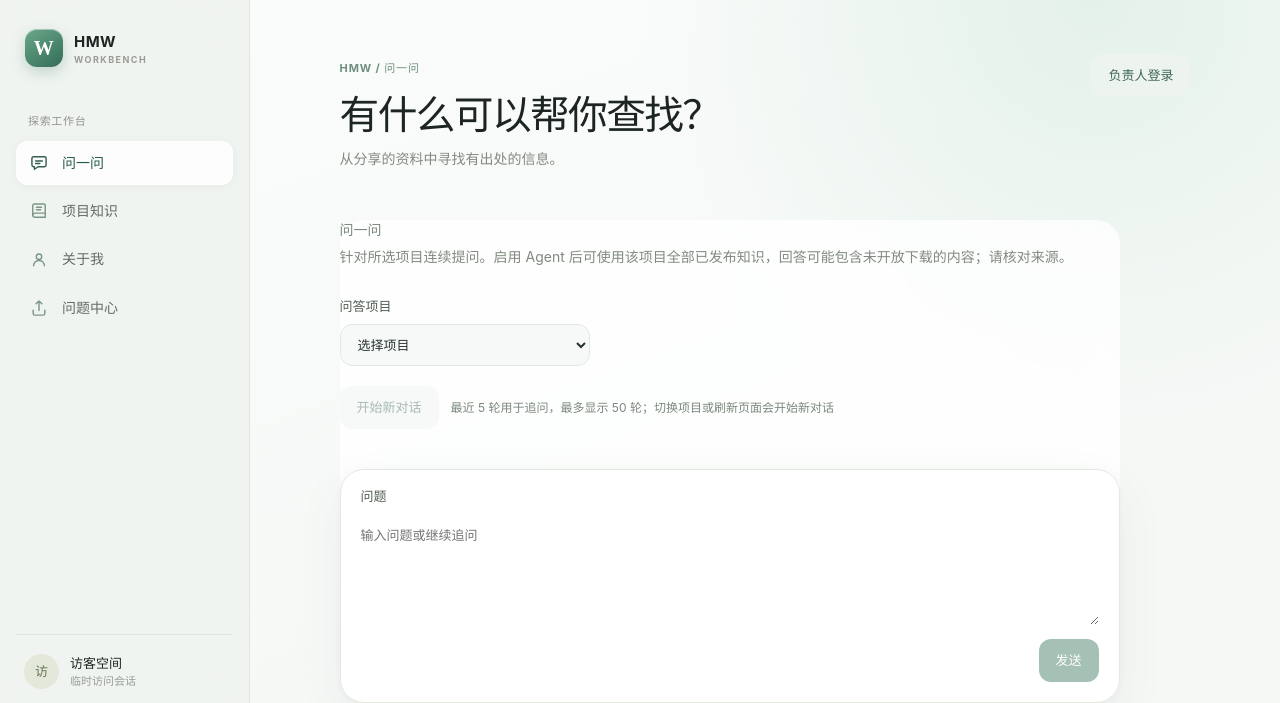
it: lists projects for dialogue independently of the shared knowledge list
Click the button "项目知识".
click(124, 211)  # box [16,189,233,233]
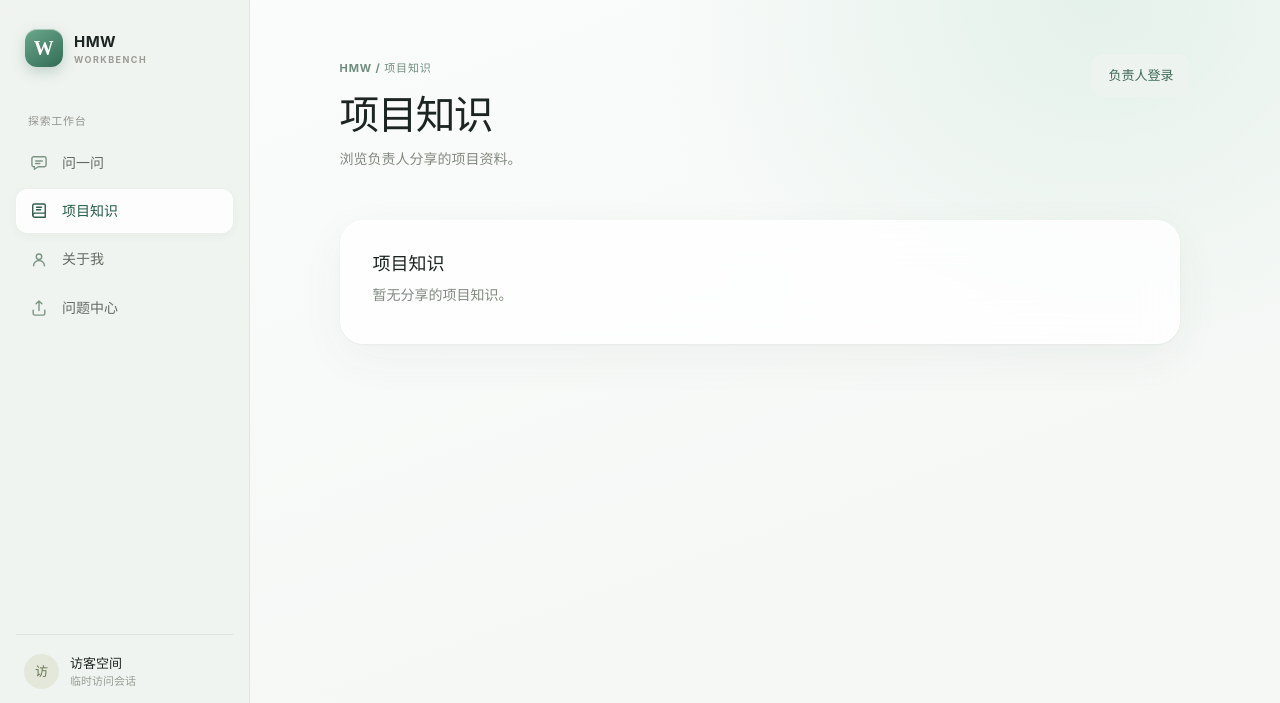
Expected: the text "暂无分享的项目知识。" is shown, [373,286,513,303]
Expected: the label "问答项目" is gone
